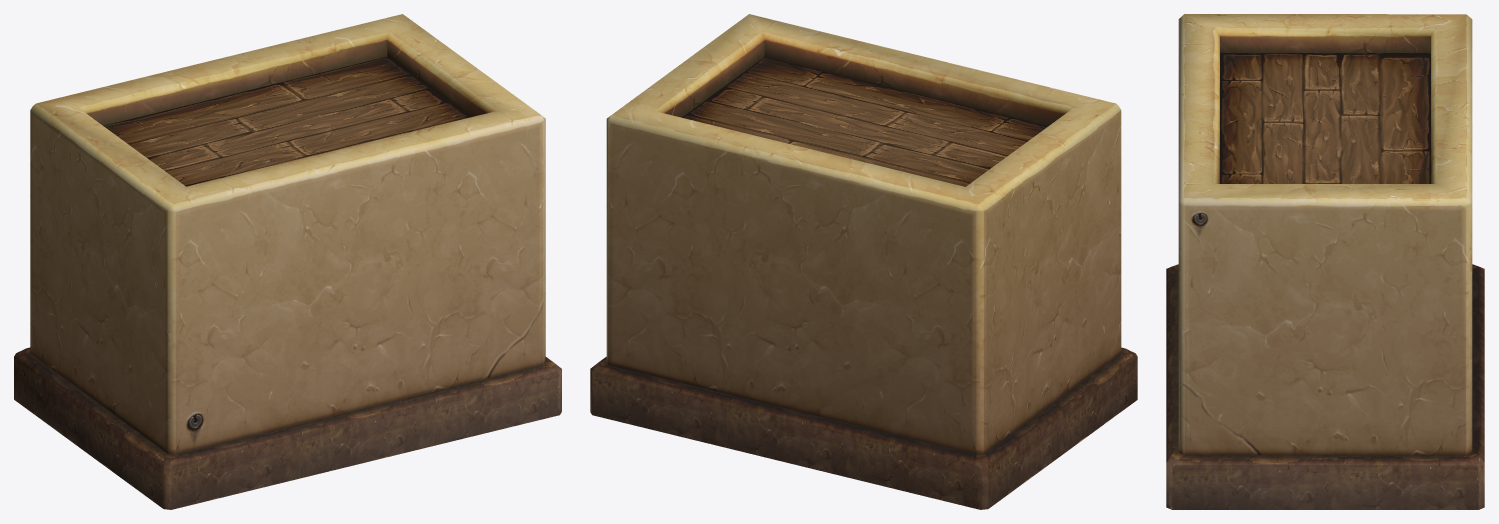
File: DE_House_Mod_Part_01.fbx
The picture shows the model from 3 angles, left to right: view 1: azimuth 30°, elevation 25°; view 2: azimuth 150°, elevation 25°; view 3: azimuth 270°, elevation 25°; orthographic projection. The views are drawn at different scales.
Visible parts, largest first — view 1: DE_House_Mod_Part_01; view 2: DE_House_Mod_Part_01; view 3: DE_House_Mod_Part_01.
Boxes of the visible parts, x1,y1,x2,y2 form: DE_House_Mod_Part_01: (14,14,561,509); DE_House_Mod_Part_01: (590,14,1137,509); DE_House_Mod_Part_01: (1166,14,1484,509).
Size of the model in its own units: 9.64 by 6.86 by 6.5.
